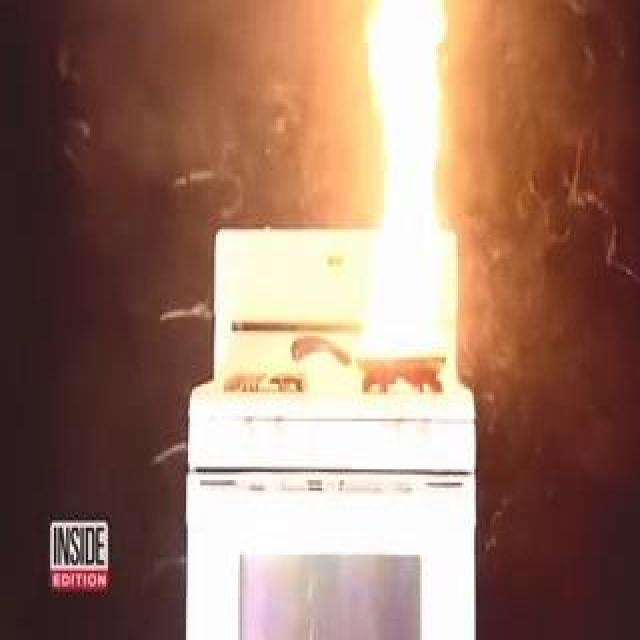Fire: (356, 226, 448, 426)
